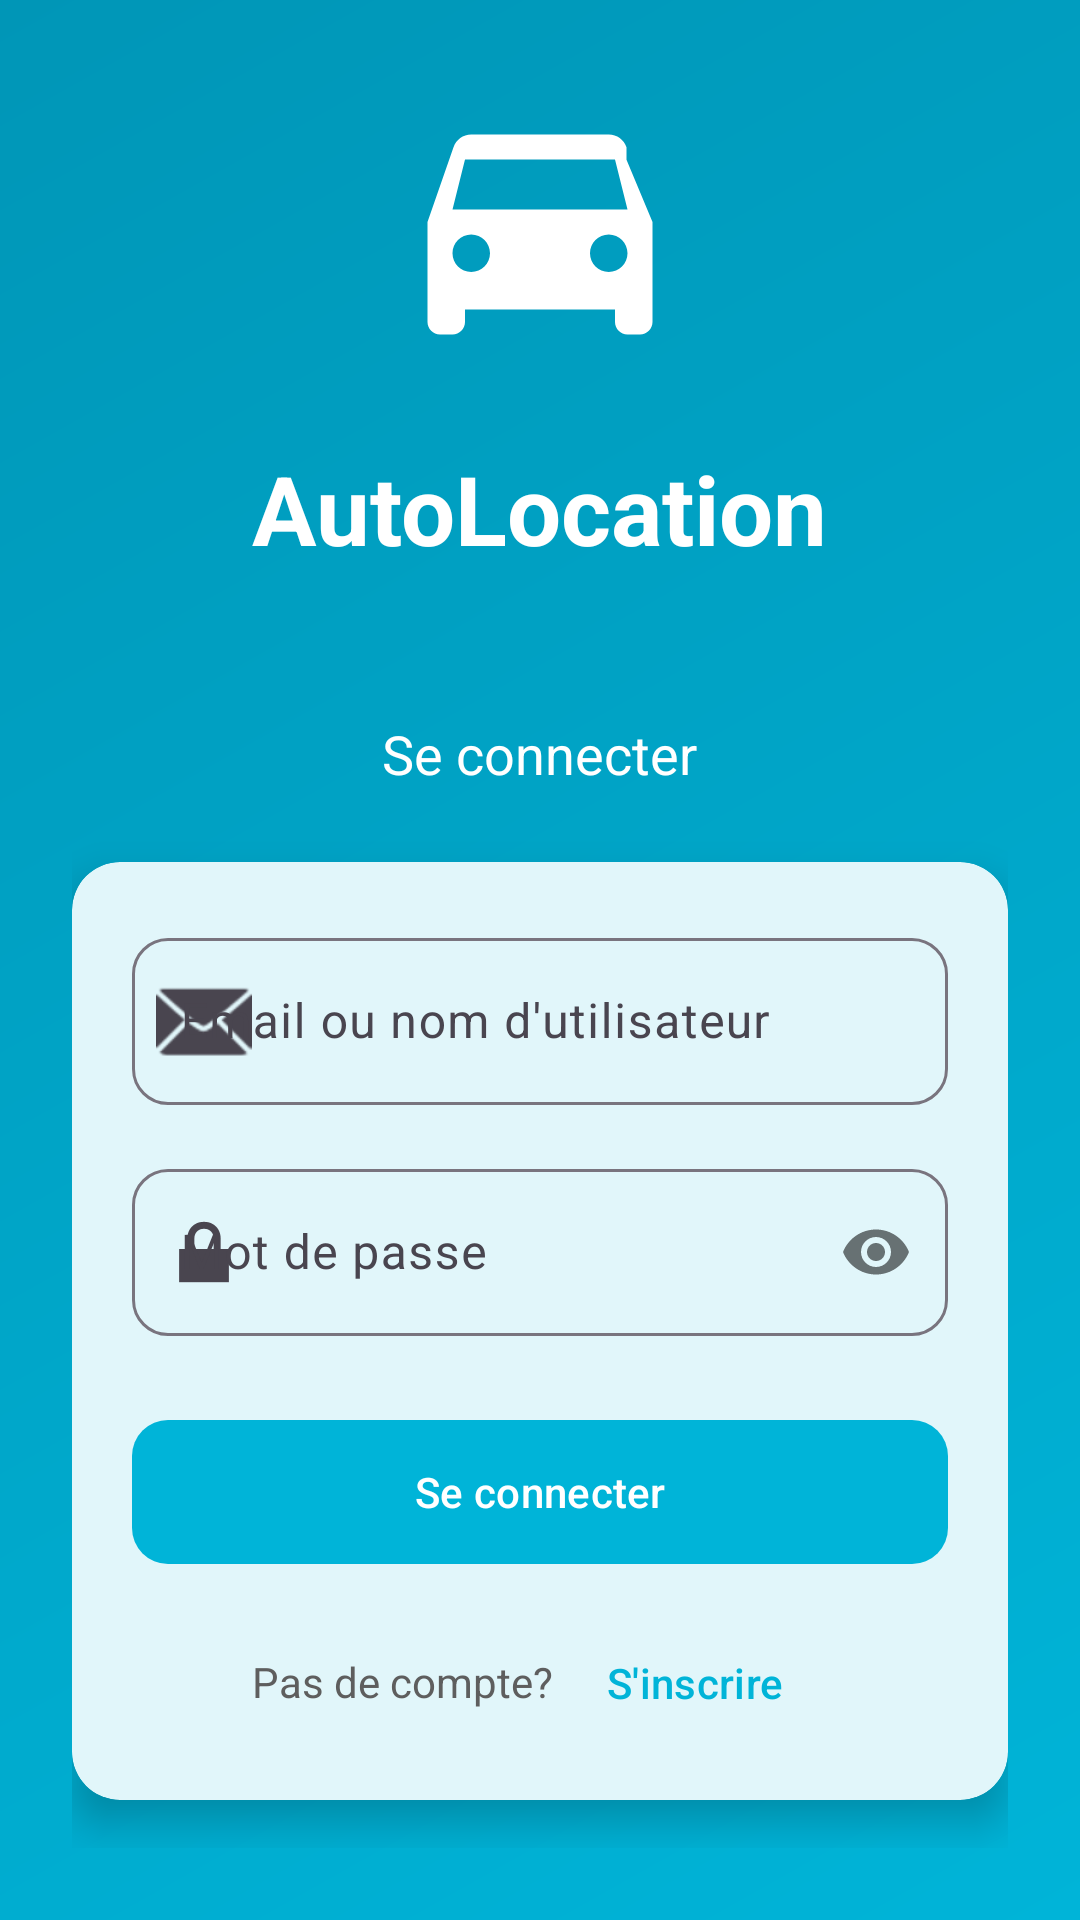

Icon click points for this 1080px×1920px phone screenshot, format point (x, y):
car: point (540, 234)
